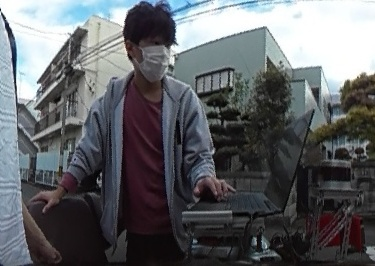person: (72, 4, 225, 258)
